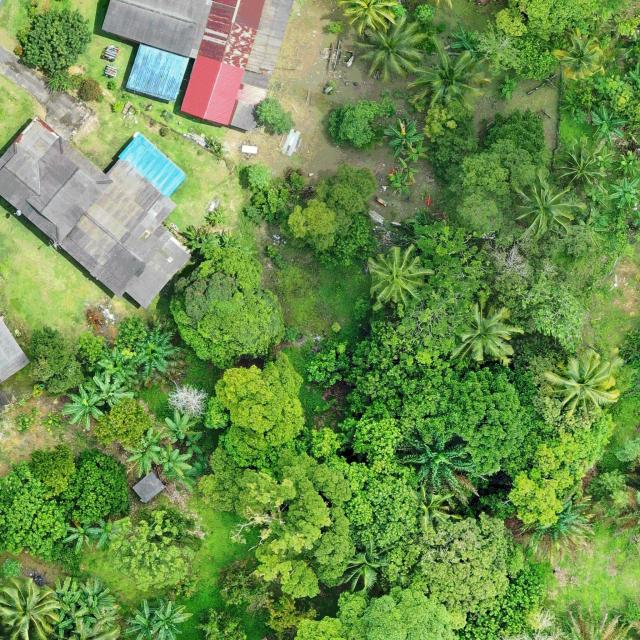Tree: (378, 218, 493, 366), (168, 245, 288, 371), (287, 164, 379, 266), (106, 509, 202, 590), (0, 458, 71, 562), (393, 428, 482, 508), (404, 39, 492, 113), (59, 446, 133, 525), (349, 12, 426, 84), (540, 352, 620, 419), (122, 312, 189, 390), (15, 6, 93, 72), (452, 295, 522, 364), (509, 172, 576, 237), (46, 578, 116, 638), (365, 245, 432, 306), (494, 0, 603, 37), (28, 324, 82, 398), (0, 575, 59, 640), (428, 113, 479, 187), (482, 106, 546, 154), (472, 19, 524, 76), (555, 136, 608, 190), (27, 443, 78, 497), (326, 100, 380, 150), (504, 32, 558, 82), (120, 426, 168, 478), (553, 28, 603, 76), (107, 396, 152, 448), (339, 0, 404, 36), (82, 370, 136, 410), (62, 382, 105, 432), (120, 596, 166, 640), (451, 22, 492, 69), (383, 117, 426, 158), (150, 599, 193, 638), (254, 96, 295, 136), (61, 518, 105, 554), (156, 409, 202, 443), (155, 444, 196, 480), (77, 329, 109, 374), (588, 103, 626, 139), (89, 518, 122, 550), (609, 178, 640, 208), (558, 90, 587, 118), (402, 138, 432, 163), (246, 161, 271, 190), (387, 169, 411, 198), (398, 156, 419, 183), (496, 75, 518, 100), (414, 4, 436, 22)
